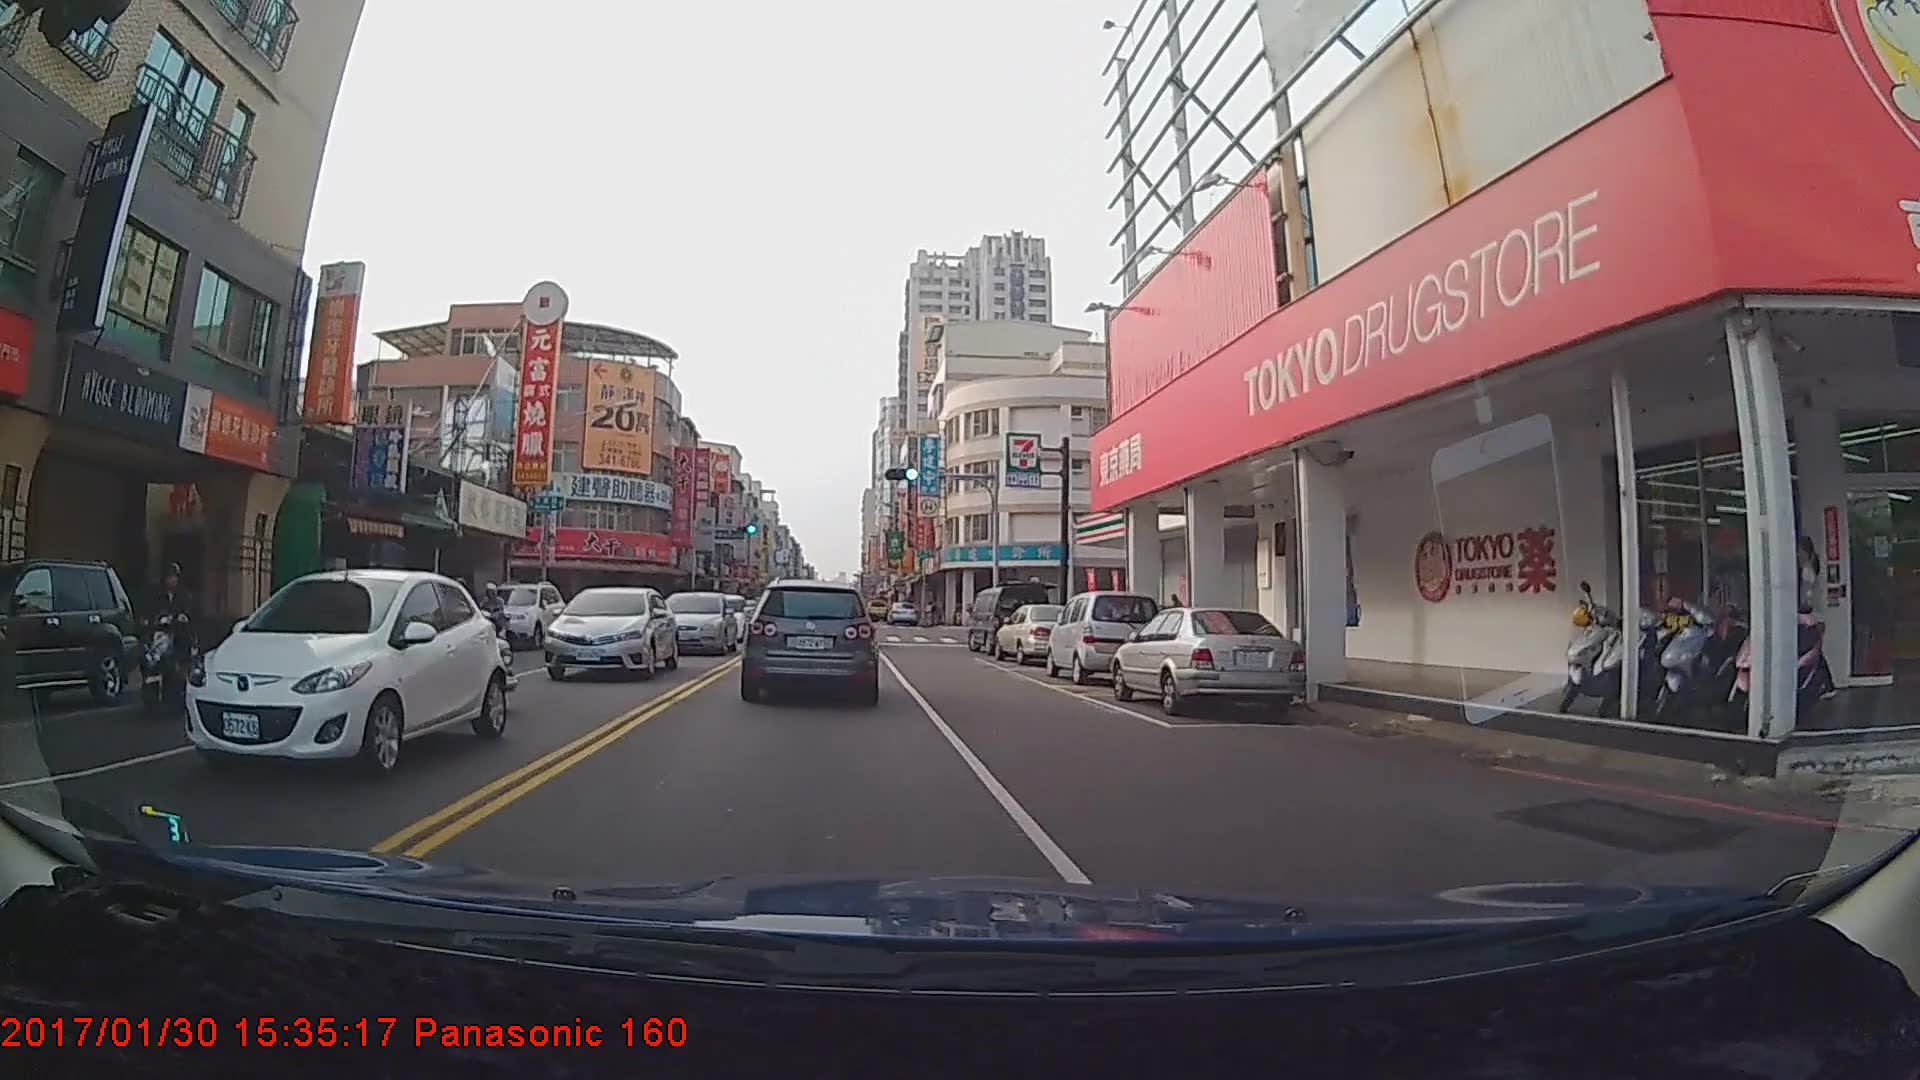pedestrian: (1785, 534, 1829, 694)
rider: (139, 563, 212, 713)
vehicle: (174, 565, 502, 783), (1112, 601, 1305, 720), (0, 557, 138, 716), (745, 581, 875, 702), (542, 584, 674, 679), (1042, 587, 1161, 681), (965, 581, 1050, 656), (992, 601, 1088, 666), (473, 583, 567, 649), (656, 589, 737, 656), (885, 597, 917, 622)
